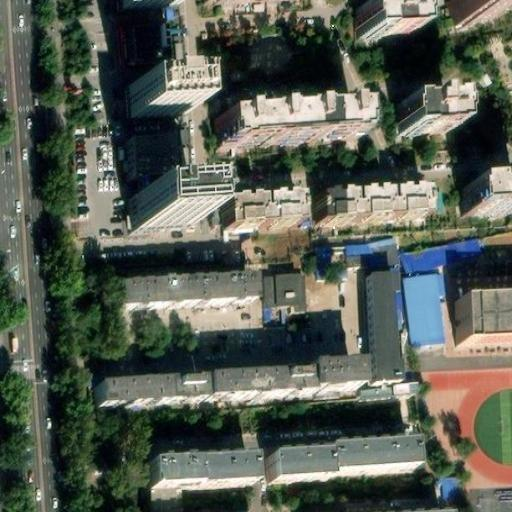building: (263, 438, 408, 481), (117, 273, 256, 309), (210, 111, 349, 145), (361, 271, 395, 395), (144, 451, 246, 490), (309, 185, 421, 217), (399, 231, 481, 273), (399, 274, 445, 348), (115, 3, 155, 87), (90, 378, 199, 404), (459, 298, 512, 343), (217, 191, 293, 221), (198, 375, 275, 402), (286, 499, 439, 512), (389, 100, 446, 133), (127, 203, 184, 234), (440, 0, 500, 28), (125, 148, 154, 205), (118, 85, 171, 116), (458, 181, 512, 211), (303, 367, 353, 398), (258, 272, 301, 307), (315, 238, 361, 268), (341, 0, 399, 21), (360, 237, 391, 272), (200, 0, 291, 8), (274, 378, 304, 399), (394, 366, 412, 394)
